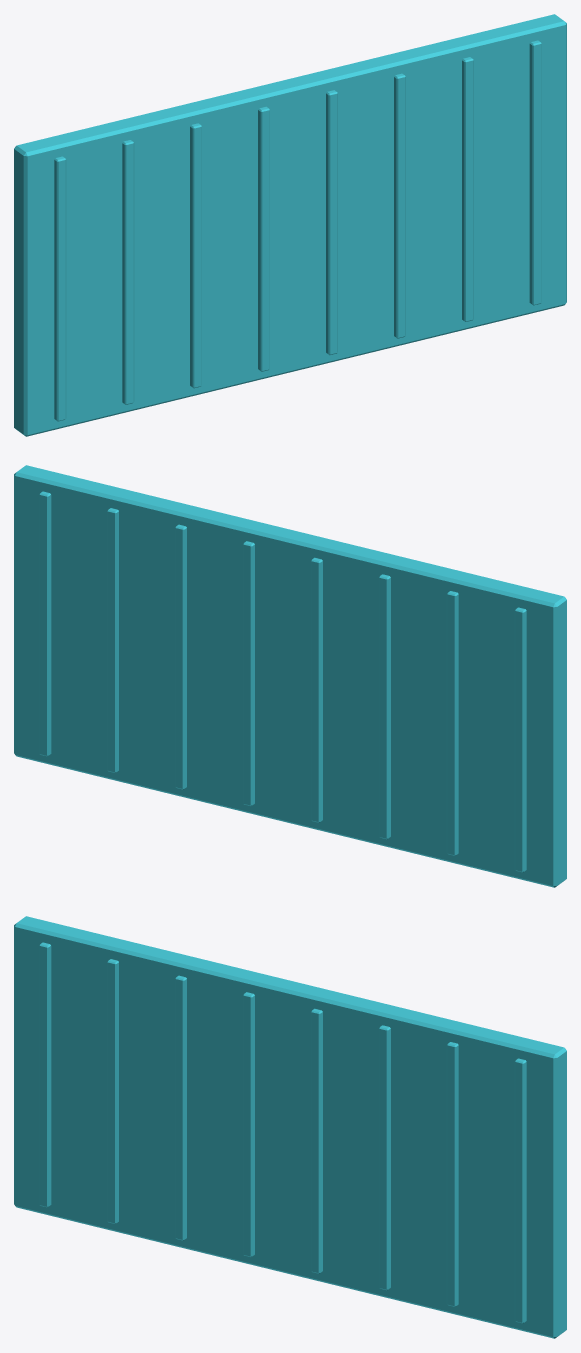
The model's file is radiator_panel_a.glb.
The picture shows the model from 3 angles, top to bottom: view 1: azimuth 30°, elevation 25°; view 2: azimuth 150°, elevation 25°; view 3: azimuth 330°, elevation 25°; orthographic projection.
Visible parts, largest first — view 1: radiator_panel_a-convcol; view 2: radiator_panel_a-convcol; view 3: radiator_panel_a-convcol.
Part boxes in pixels (box(x1,y1,x2,y2)): radiator_panel_a-convcol: box(14, 14, 566, 436); radiator_panel_a-convcol: box(14, 465, 566, 887); radiator_panel_a-convcol: box(14, 916, 566, 1338).
Size of the model in its own units: 2 by 1 by 0.12.
